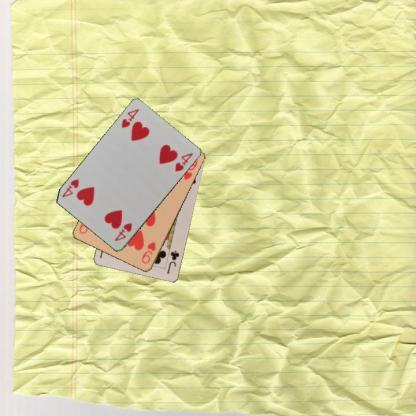4h: (118, 106, 140, 130), (112, 220, 134, 242)
9h: (139, 239, 157, 265)
Jc: (164, 248, 181, 275)
